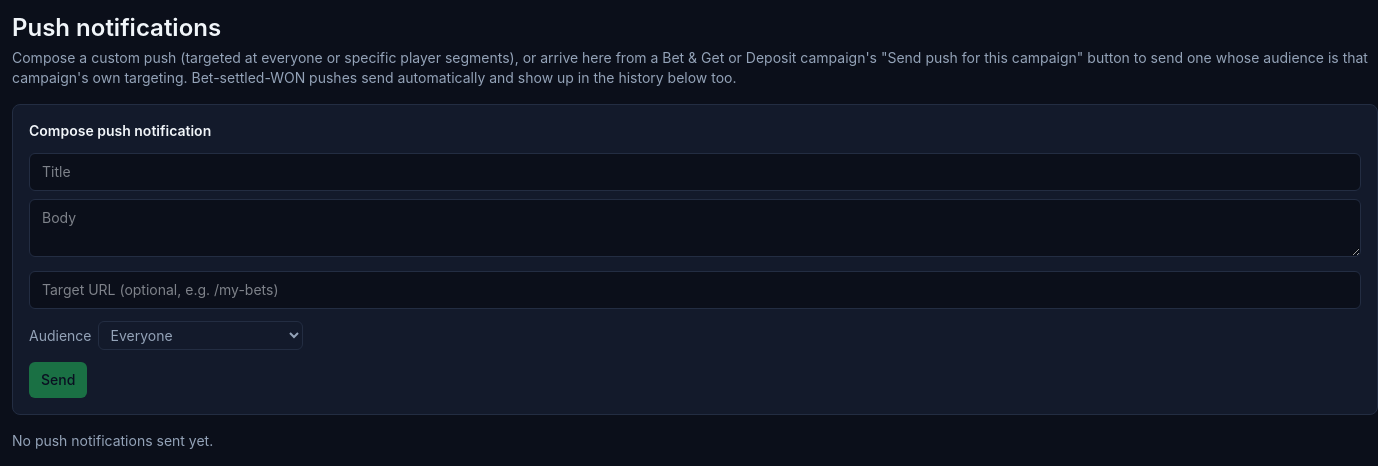
PushNotificationsPage › disables Send until title and body are both filled
Expected: the button "Send" is disabled, [29, 362, 87, 398]
Type "Hello" into the field named "Push notification title" at (695, 172), box [29, 153, 1361, 191]
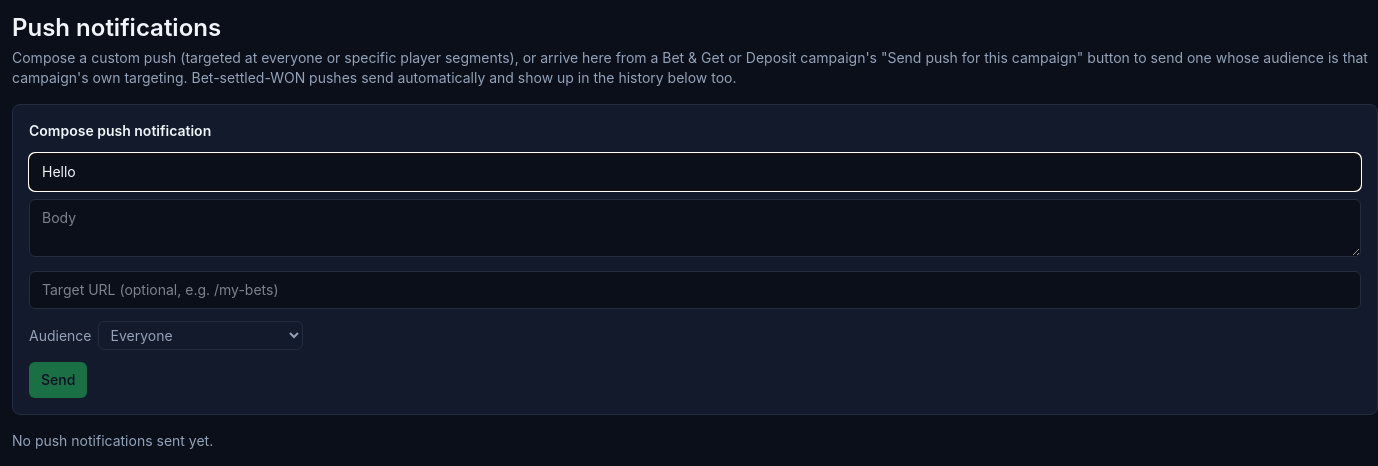
Expected: the button "Send" is disabled, [29, 362, 87, 398]
Type "World" into the text box named "Push notification body" at (695, 228), box [29, 199, 1361, 257]
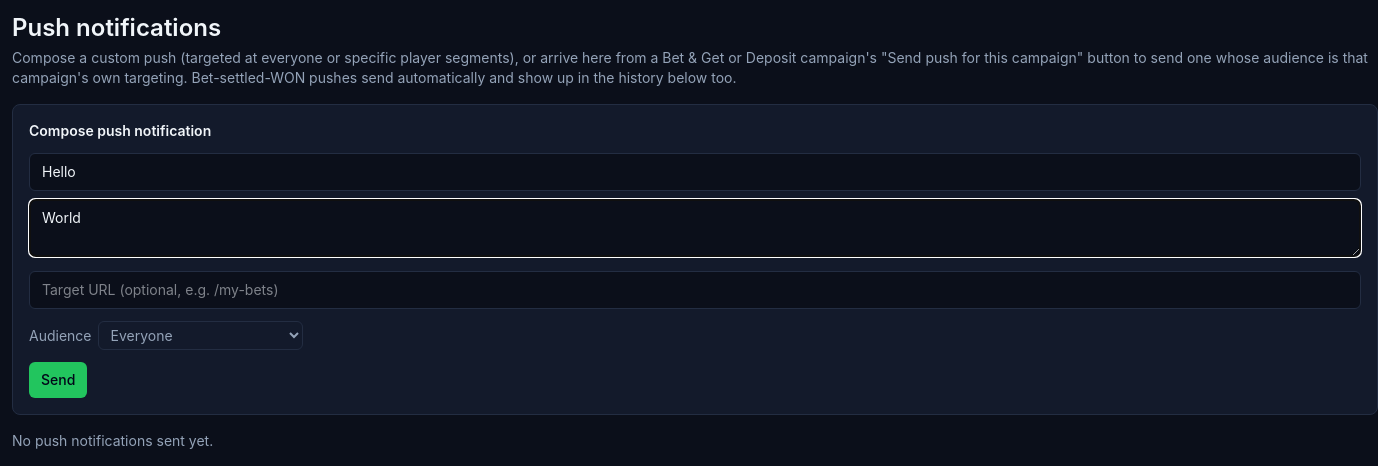
Now the button "Send" is enabled, box [29, 362, 87, 398]
